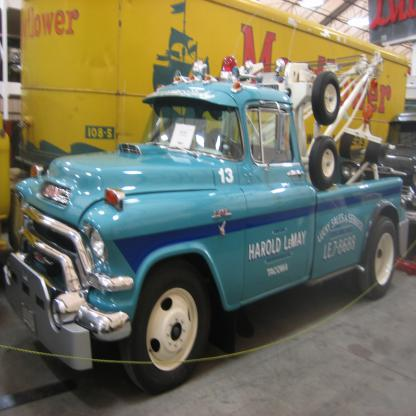Car: (3, 50, 408, 396)
Truck: (3, 55, 410, 394)
